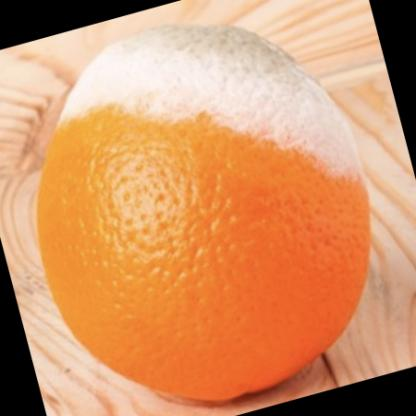rotten: (38, 24, 372, 401)
